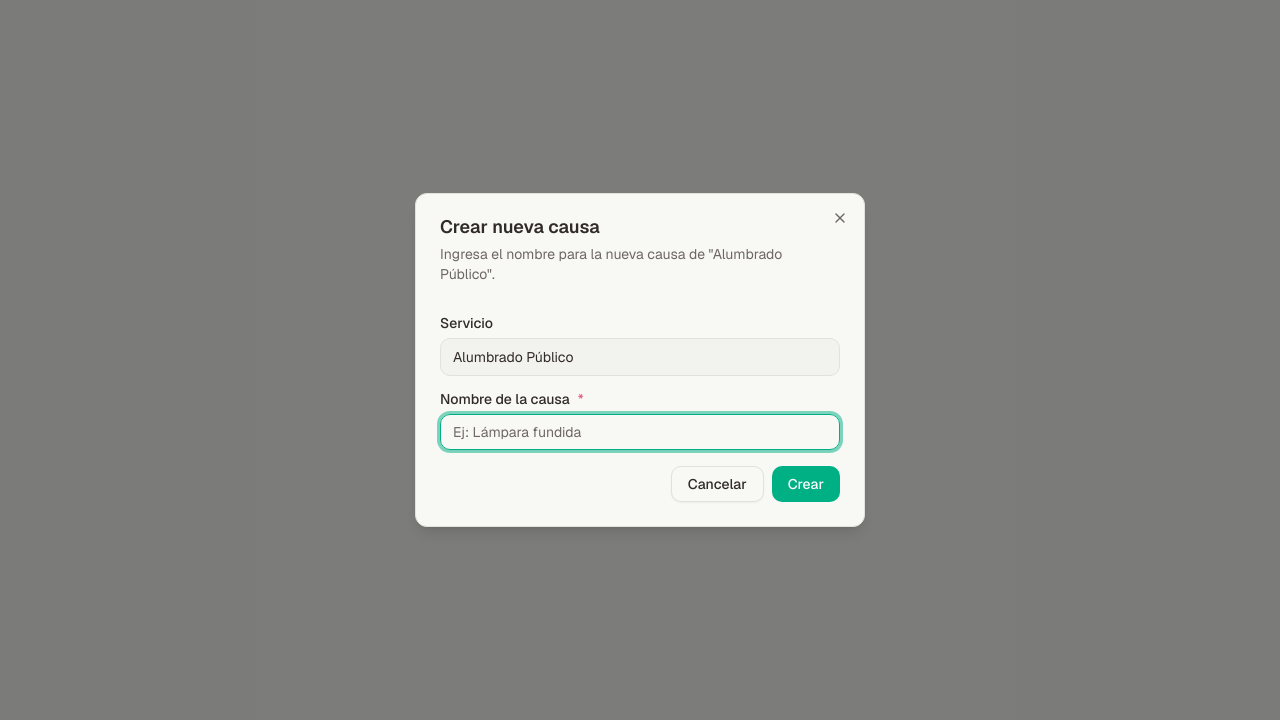
Test: CauseForm › should validate required name field
Click the button "Crear": (806, 484) [772,466,840,502]
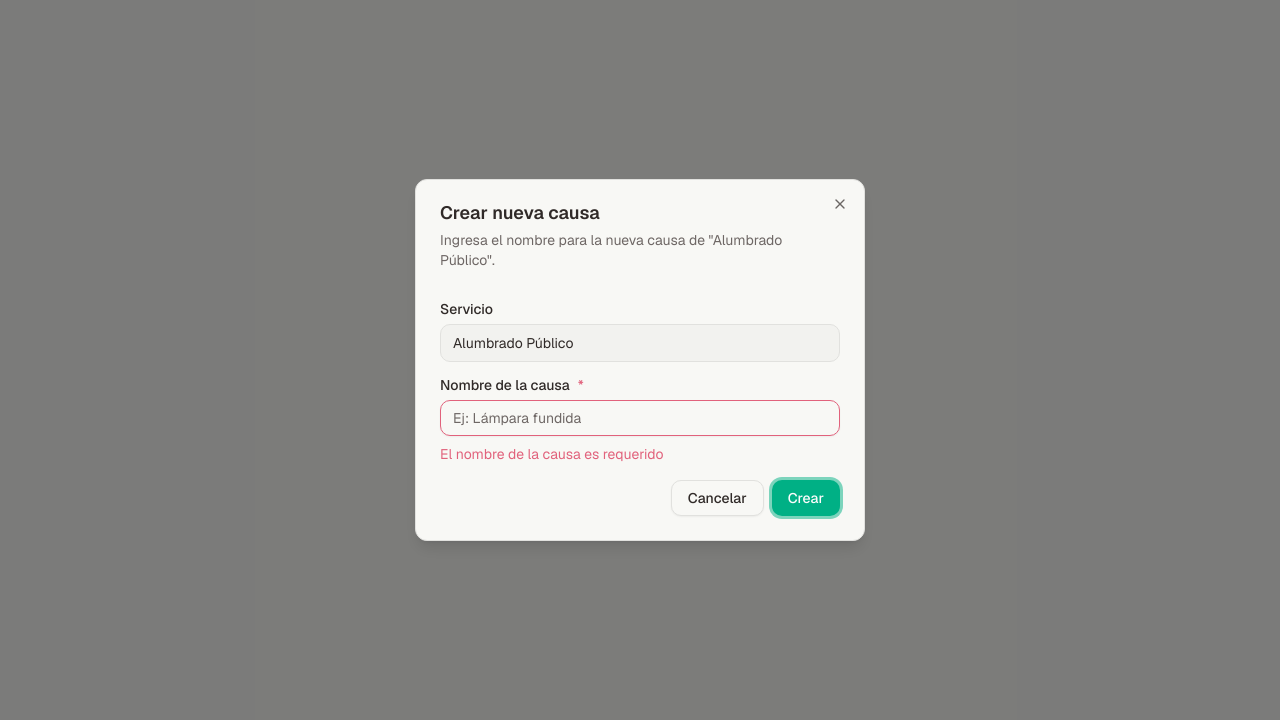
Result: the text "El nombre de la causa es requerido" is shown at [440,445,664,463]
